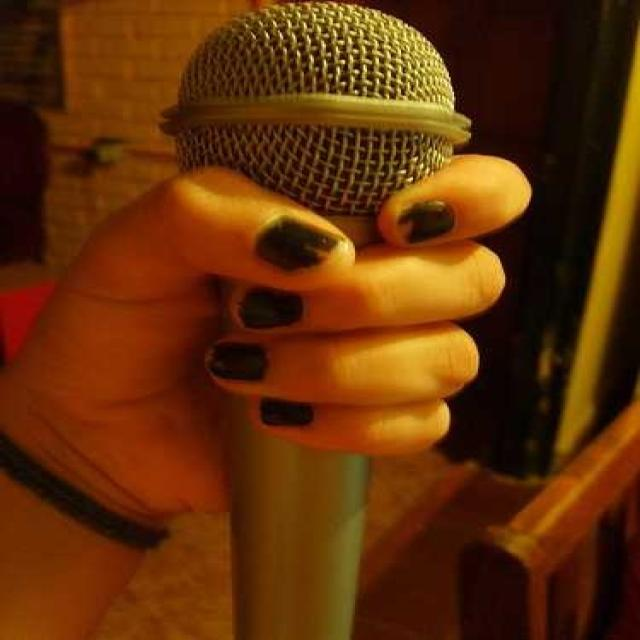microphone: (167, 9, 457, 640)
